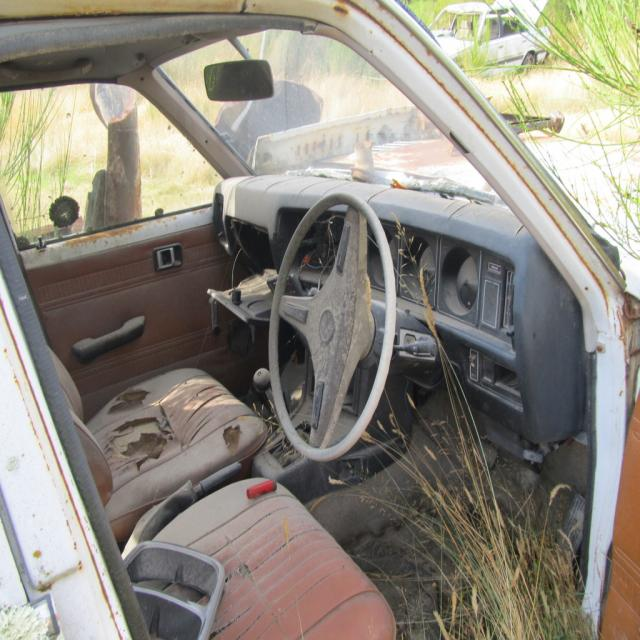other: (17, 48, 616, 584)
